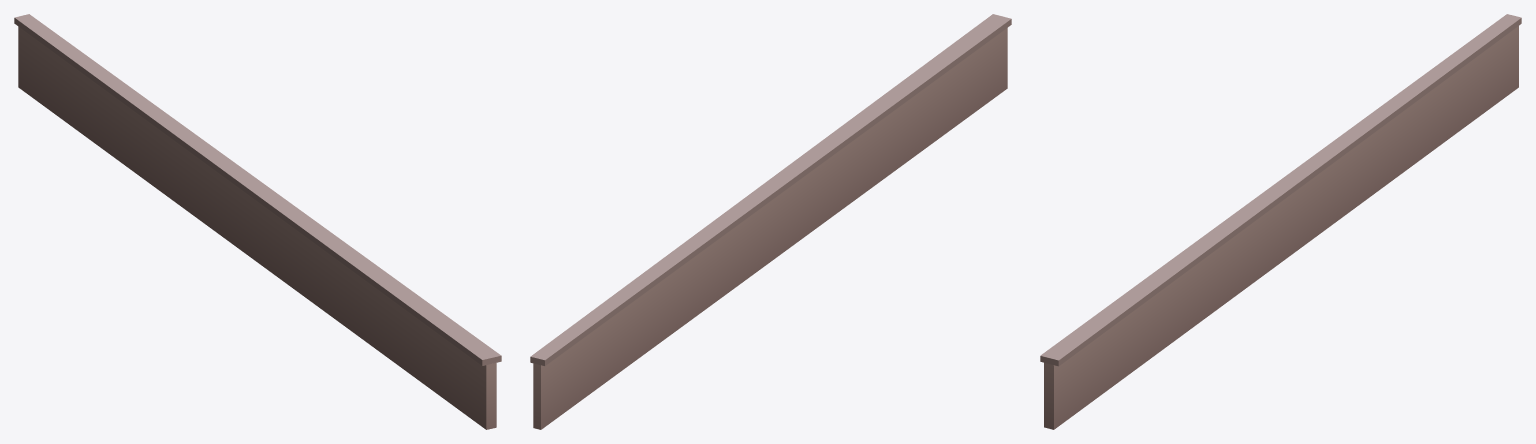
Rendered from pier_wall.glb.
3 views of the same model, side by side, from view 1: azimuth 30°, elevation 25°; view 2: azimuth 150°, elevation 25°; view 3: azimuth 330°, elevation 25° (orthographic).
Parts seen in each view (by area): view 1: pier_wall; view 2: pier_wall; view 3: pier_wall.
Part boxes in pixels (<box>): pier_wall: <box>14,14,501,429</box>; pier_wall: <box>530,14,1011,429</box>; pier_wall: <box>1040,14,1521,429</box>.
Bounding box in the file's own units: 0.0466 × 0.167 × 2.
